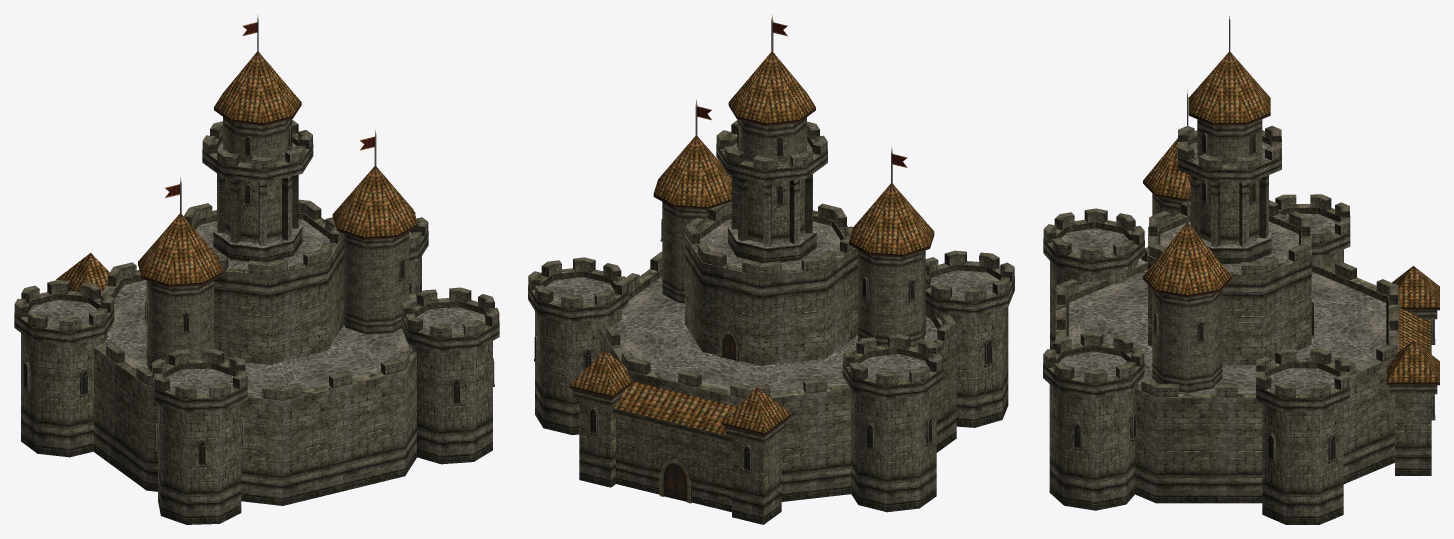
The model's file is shijieditu_03.FBX.
3 renders of one model, left to right at view 1: azimuth 30°, elevation 25°; view 2: azimuth 150°, elevation 25°; view 3: azimuth 270°, elevation 25°, orthographic.
Visible parts, largest first — view 1: shijieditu_03; view 2: shijieditu_03; view 3: shijieditu_03.
Boxes of the visible parts, <box> form: shijieditu_03: <box>14,14,499,524</box>; shijieditu_03: <box>528,15,1014,524</box>; shijieditu_03: <box>1043,15,1439,524</box>.
Bounding box in the file's own units: 125 × 125 × 108.
